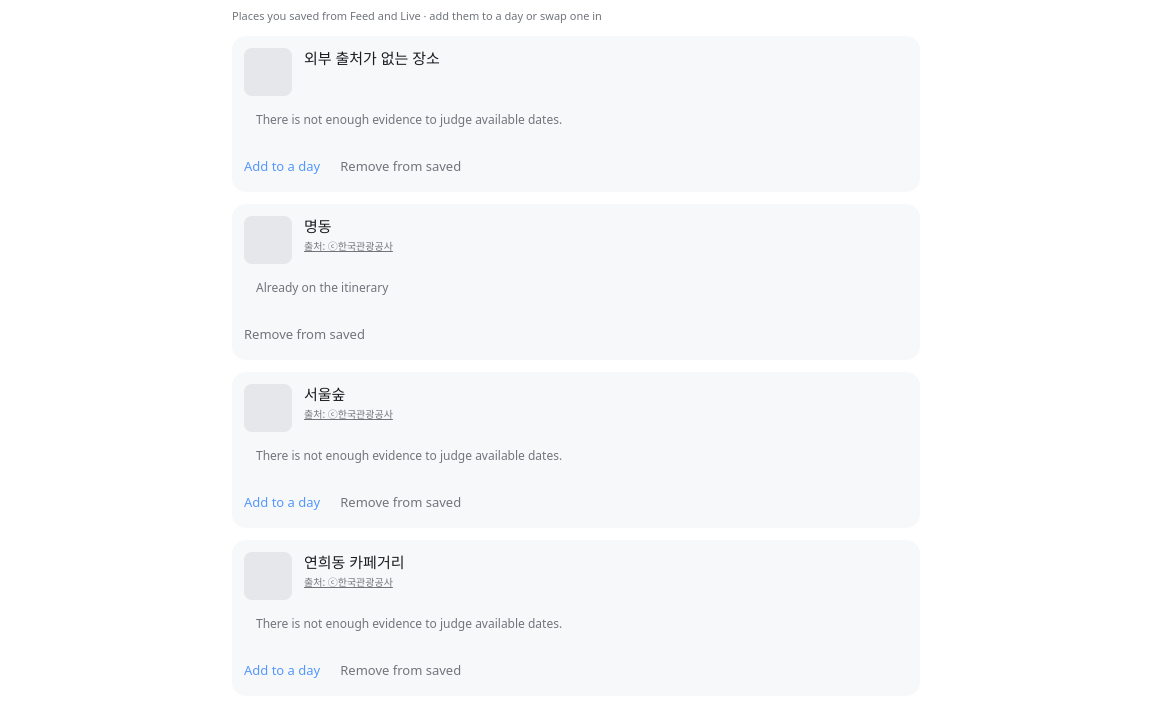
FE-303-T2 the five match states each say their own thing › explains every route-blocked date and offers a manual path without scheduling
(page scrolled)
Expected: the heading "연희동 카페거리" is shown, [304, 552, 404, 572]
Click the button "Add to a day" below "연희동 카페거리" at (282, 670), box [244, 648, 320, 692]
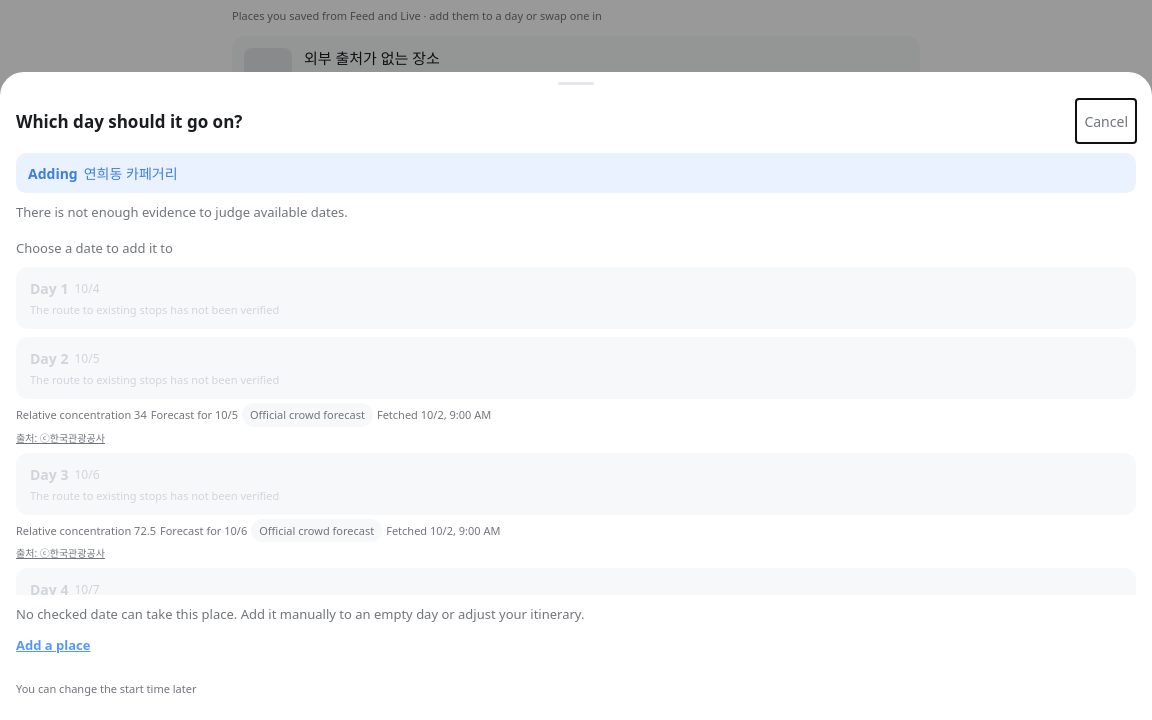
Now the text "The route to existing stops has not been verified" is shown 4 times
Now the text "No checked date can take this place. Add it manually to an empty day or adjust your itinerary." is shown, box [16, 605, 584, 623]
